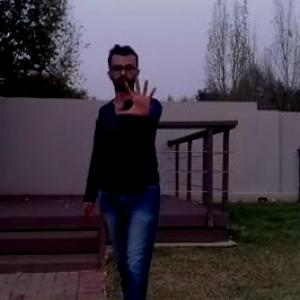follow_hand: (114, 74, 159, 118)
